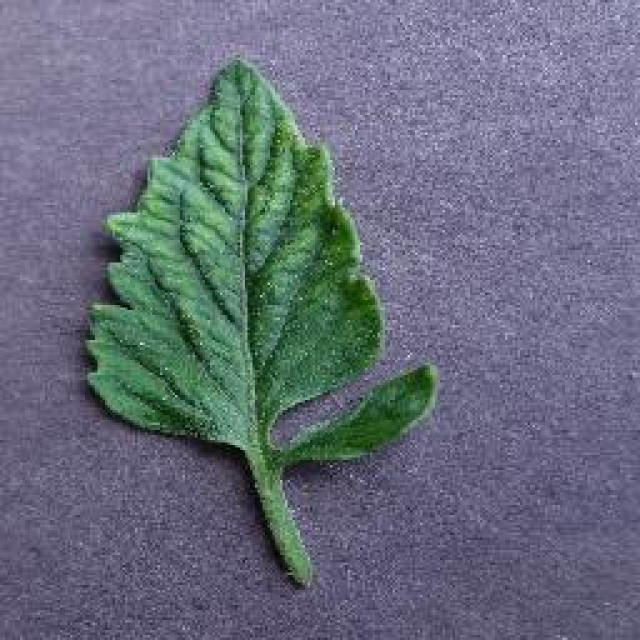Tomato mosaic virus leaf: (87, 52, 439, 466)
